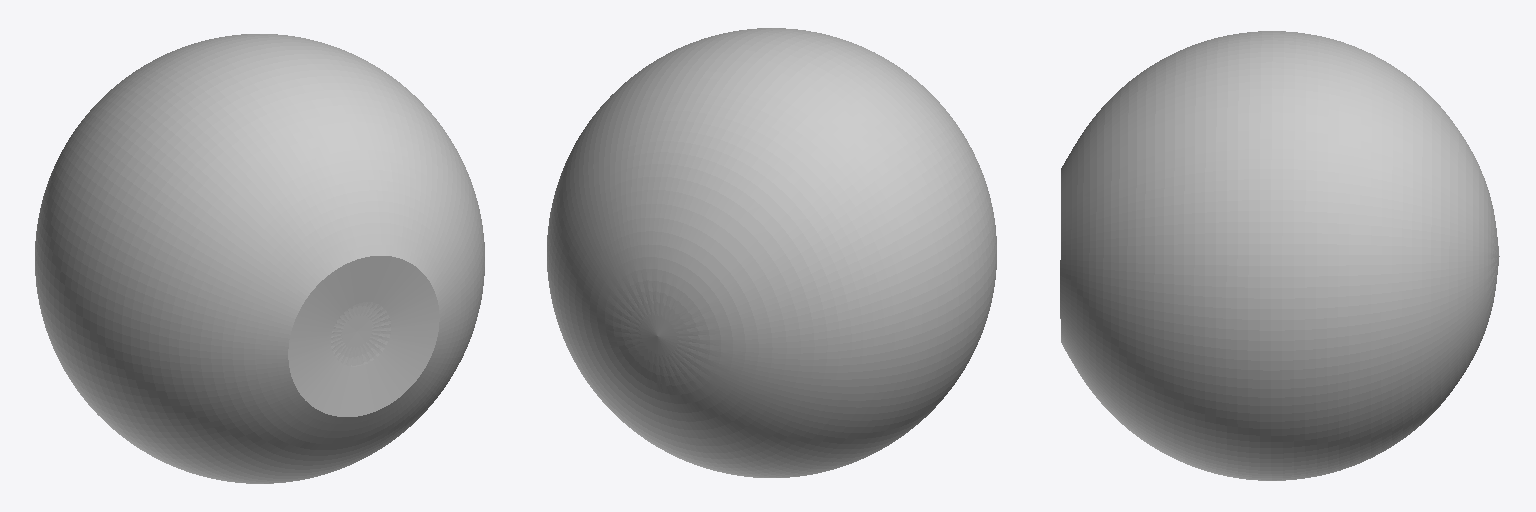
File: trimesh_eyeball.obj
3 renders of one model, left to right at view 1: azimuth 30°, elevation 25°; view 2: azimuth 150°, elevation 25°; view 3: azimuth 270°, elevation 25°, orthographic.
Parts seen in each view (by area): view 1: eyeball_1_eye_1, eyeball_1.002_eye_1.002, eyeball_1.001_eye_1.001; view 2: eyeball_1_eye_1; view 3: eyeball_1_eye_1.
Part boxes in pixels (left/top/right/bottom): eyeball_1_eye_1: left=35, top=34, right=484, bottom=483; eyeball_1.002_eye_1.002: left=288, top=256, right=439, bottom=416; eyeball_1.001_eye_1.001: left=331, top=302, right=390, bottom=366; eyeball_1_eye_1: left=547, top=28, right=996, bottom=477; eyeball_1_eye_1: left=1060, top=31, right=1499, bottom=480.
Size of the model in its own units: 3.86 by 3.86 by 3.77.